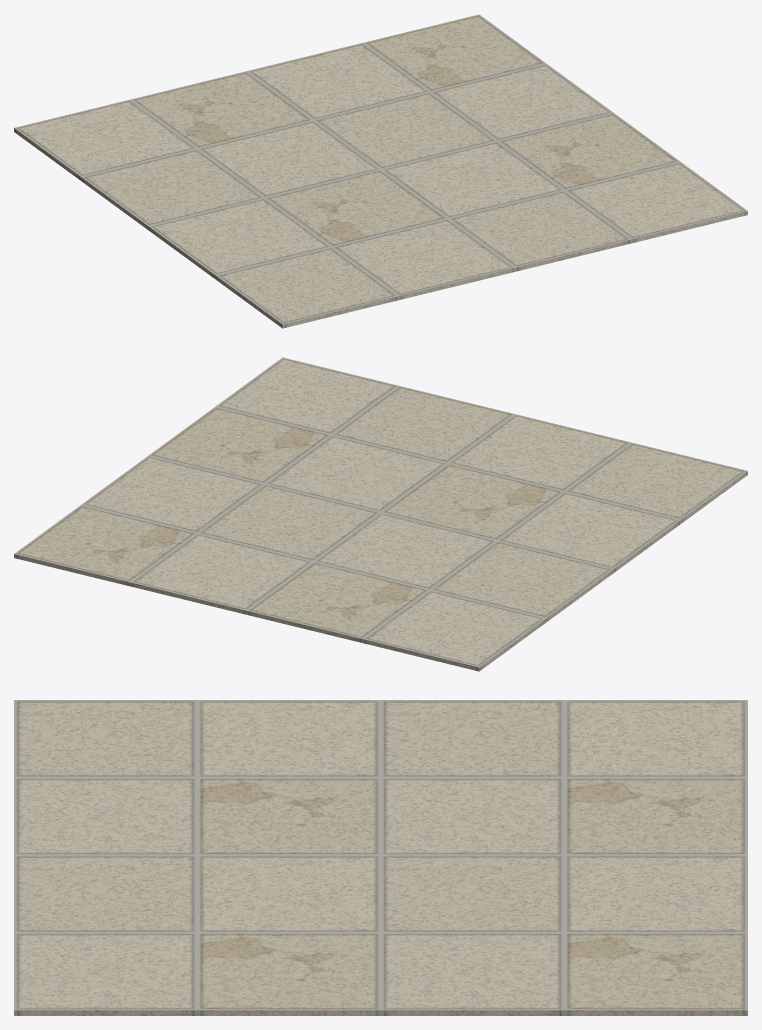
File: Ceiling_Light_240.glb
3 renders of one model, top to bottom at view 1: azimuth 30°, elevation 25°; view 2: azimuth 150°, elevation 25°; view 3: azimuth 270°, elevation 25°, orthographic. The views are drawn at different scales.
Parts seen in each view (by area): view 1: Ceiling_Light_240; view 2: Ceiling_Light_240; view 3: Ceiling_Light_240.
Part boxes in pixels (x1,y1,x2,y2): Ceiling_Light_240: (14, 14, 747, 328); Ceiling_Light_240: (14, 357, 747, 671); Ceiling_Light_240: (14, 700, 747, 1015).
Bounding box in the file's own units: 2.4 × 0.029 × 2.4.
Materials: 3 (1 with a texture image).
